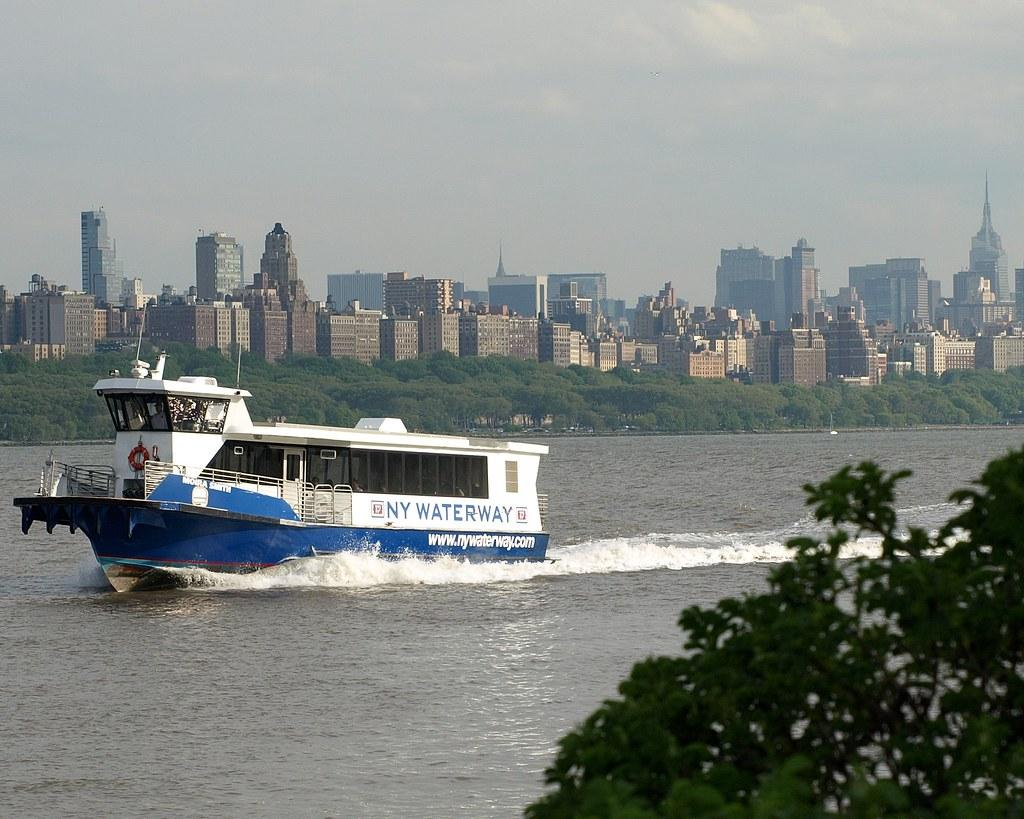PassengerShip: (8, 325, 548, 597)
